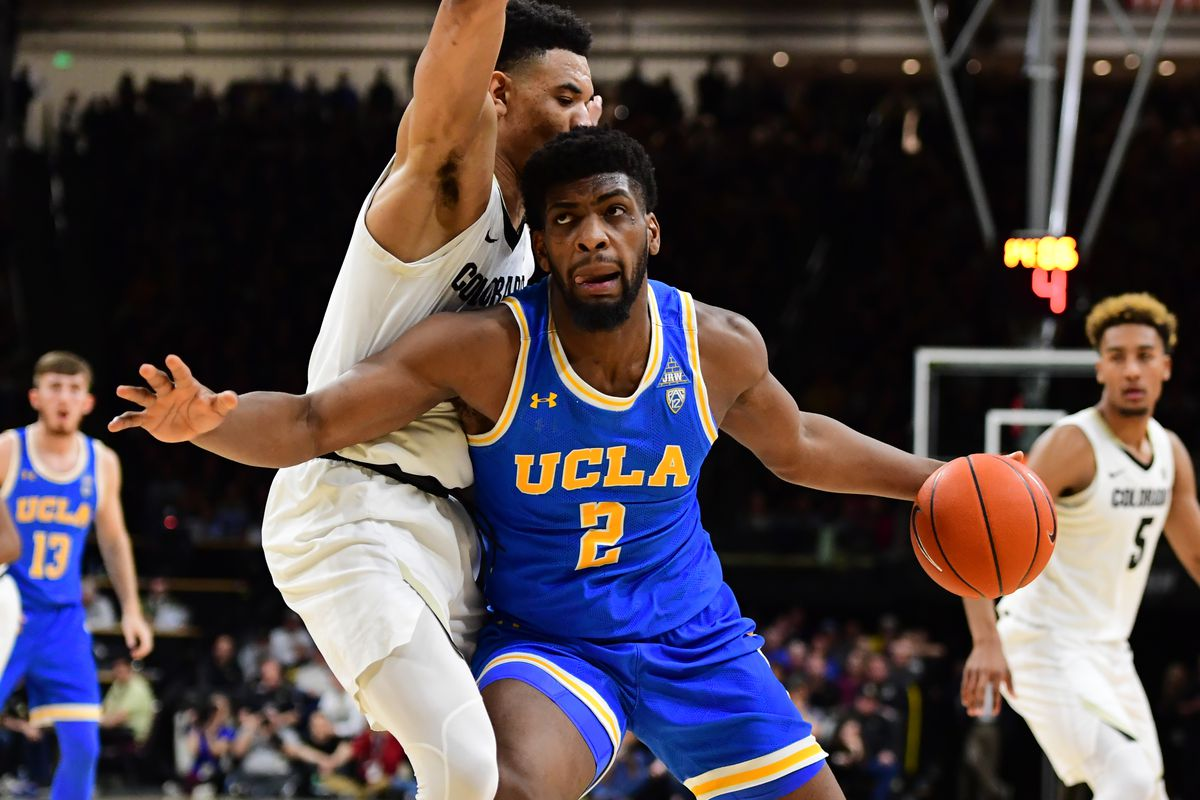ball: (889, 431, 1066, 620)
defense: (242, 5, 587, 800)
